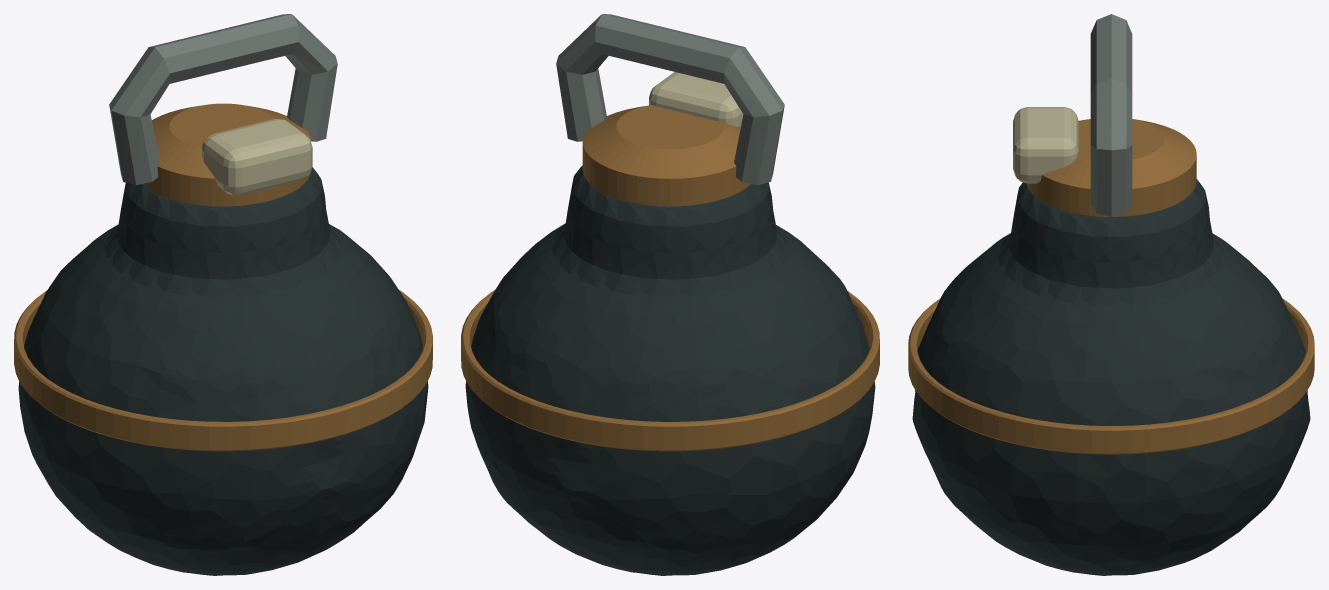
File: VAULT_BOMB.hi.glb
The picture shows the model from 3 angles, left to right: view 1: azimuth 30°, elevation 25°; view 2: azimuth 150°, elevation 25°; view 3: azimuth 270°, elevation 25°; orthographic projection. The views are drawn at different scales.
Visible parts, largest first — view 1: Body_Mesh; view 2: Body_Mesh; view 3: Body_Mesh.
Part boxes in pixels (x1,y1,x2,y2): Body_Mesh: (14,14,432,575); Body_Mesh: (461,14,879,575); Body_Mesh: (908,14,1314,575).
Size of the model in its own units: 0.62 by 0.8578 by 0.62.
